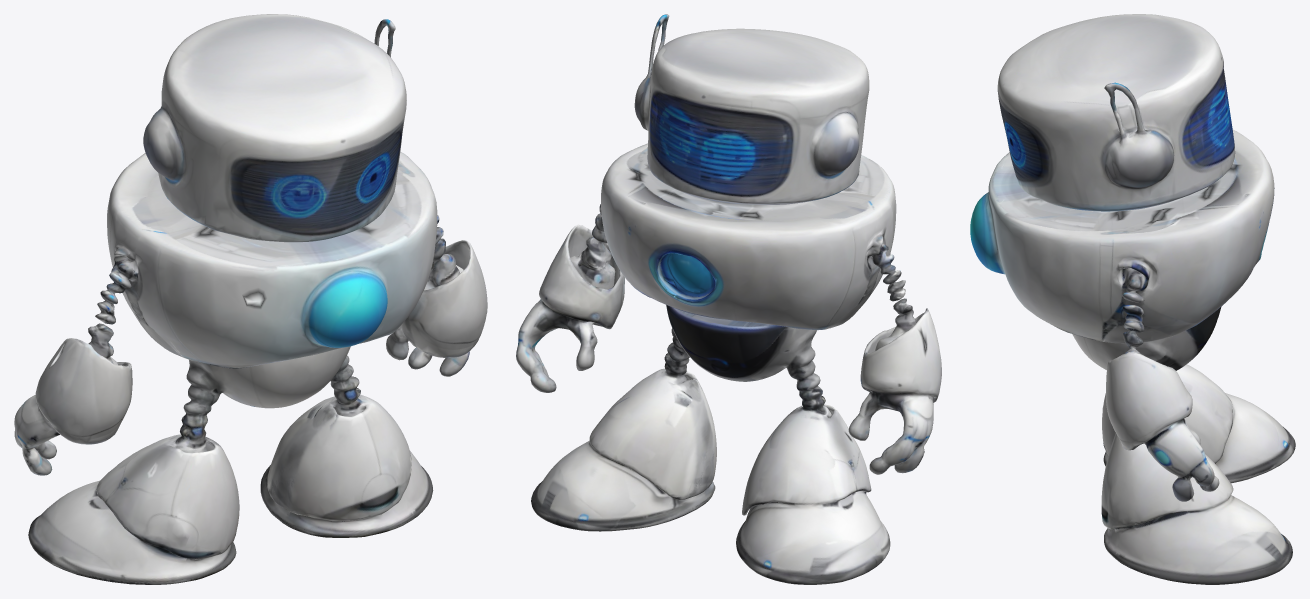
Rendered from robot.glb.
3 renders of one model, left to right at view 1: azimuth 30°, elevation 25°; view 2: azimuth 150°, elevation 25°; view 3: azimuth 270°, elevation 25°, orthographic. The views are drawn at different scales.
Bounding box in the file's own units: 1.87 × 2.01 × 1.27.
Materials: 1 (1 with a texture image).
